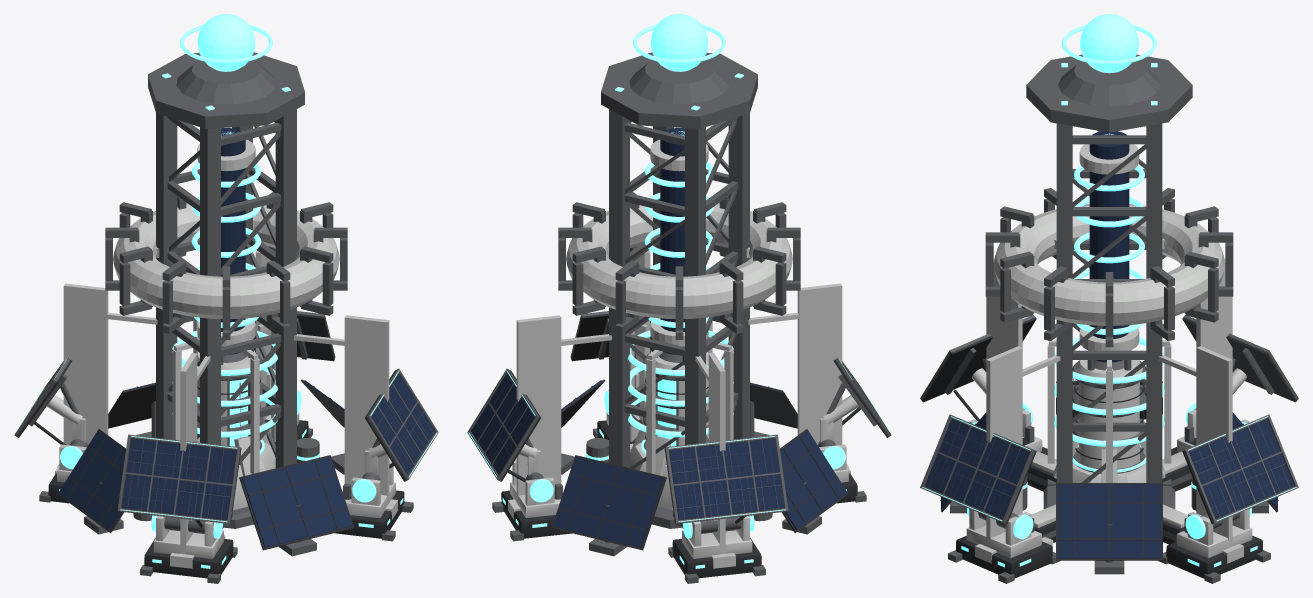
File: sb_power_t3.glb
3 views of the same model, side by side, from view 1: azimuth 30°, elevation 25°; view 2: azimuth 150°, elevation 25°; view 3: azimuth 270°, elevation 25° (orthographic). The views are drawn at different scales.
Visible parts, largest first — view 1: SM_PWR_BODY, SM_PWR3_TOWER, SM_PWR3_RADIATORS, SM_PWR3_TOKAMAK, SM_PWR2_PANEL_GLASS, SM_PWR3_CROWN, SM_PWR3_COILS, SM_PWR3_GLOW, SM_PWR2_PANEL_FRAME, SM_PWR_LIGHTS, SM_PWR2_PYLONS, SM_PWR3_CORE (+3 smaller); view 2: SM_PWR_BODY, SM_PWR3_TOWER, SM_PWR3_RADIATORS, SM_PWR3_TOKAMAK, SM_PWR2_PANEL_GLASS, SM_PWR3_CROWN, SM_PWR3_COILS, SM_PWR3_GLOW, SM_PWR2_PANEL_FRAME, SM_PWR_LIGHTS, SM_PWR2_PYLONS, SM_PWR3_CORE (+3 smaller); view 3: SM_PWR_BODY, SM_PWR3_TOWER, SM_PWR3_RADIATORS, SM_PWR3_TOKAMAK, SM_PWR3_CROWN, SM_PWR3_COILS, SM_PWR2_PANEL_GLASS, SM_PWR3_GLOW, SM_PWR3_CORE, SM_PWR2_PYLONS, SM_PWR2_PANEL_FRAME, SM_PWR_LIGHTS (+3 smaller).
Boxes of the visible parts, left/top/right/bottom form: SM_PWR_BODY: left=14, top=311, right=438, bottom=583; SM_PWR3_TOWER: left=156, top=109, right=296, bottom=526; SM_PWR3_RADIATORS: left=55, top=250, right=397, bottom=568; SM_PWR3_TOKAMAK: left=113, top=202, right=339, bottom=318; SM_PWR2_PANEL_GLASS: left=58, top=380, right=352, bottom=547; SM_PWR3_CROWN: left=148, top=52, right=304, bottom=128; SM_PWR3_COILS: left=105, top=192, right=347, bottom=339; SM_PWR3_GLOW: left=162, top=14, right=290, bottom=327; SM_PWR2_PANEL_FRAME: left=57, top=379, right=354, bottom=550; SM_PWR_LIGHTS: left=15, top=358, right=437, bottom=568; SM_PWR2_PYLONS: left=172, top=320, right=275, bottom=473; SM_PWR3_CORE: left=221, top=128, right=245, bottom=354; SM_PWR_BODY: left=467, top=311, right=891, bottom=583; SM_PWR3_TOWER: left=609, top=109, right=749, bottom=526; SM_PWR3_RADIATORS: left=508, top=250, right=850, bottom=568; SM_PWR3_TOKAMAK: left=566, top=202, right=792, bottom=318; SM_PWR2_PANEL_GLASS: left=553, top=380, right=847, bottom=547; SM_PWR3_CROWN: left=601, top=52, right=757, bottom=128; SM_PWR3_COILS: left=558, top=192, right=800, bottom=339; SM_PWR3_GLOW: left=615, top=14, right=743, bottom=327; SM_PWR2_PANEL_FRAME: left=551, top=379, right=848, bottom=550; SM_PWR_LIGHTS: left=468, top=358, right=890, bottom=568; SM_PWR2_PYLONS: left=630, top=321, right=733, bottom=473; SM_PWR3_CORE: left=660, top=128, right=684, bottom=354; SM_PWR_BODY: left=920, top=315, right=1298, bottom=583; SM_PWR3_TOWER: left=1047, top=123, right=1171, bottom=486; SM_PWR3_RADIATORS: left=975, top=259, right=1243, bottom=563; SM_PWR3_TOKAMAK: left=993, top=204, right=1225, bottom=325; SM_PWR3_CROWN: left=1026, top=54, right=1192, bottom=132; SM_PWR3_COILS: left=985, top=188, right=1233, bottom=347; SM_PWR2_PANEL_GLASS: left=941, top=381, right=1277, bottom=558; SM_PWR3_GLOW: left=1061, top=14, right=1157, bottom=334; SM_PWR3_CORE: left=1089, top=131, right=1129, bottom=362; SM_PWR2_PYLONS: left=1047, top=340, right=1171, bottom=482; SM_PWR2_PANEL_FRAME: left=940, top=380, right=1278, bottom=560; SM_PWR_LIGHTS: left=922, top=403, right=1296, bottom=567.
Size of the model in its own units: 38.25 by 55.6 by 38.25.
